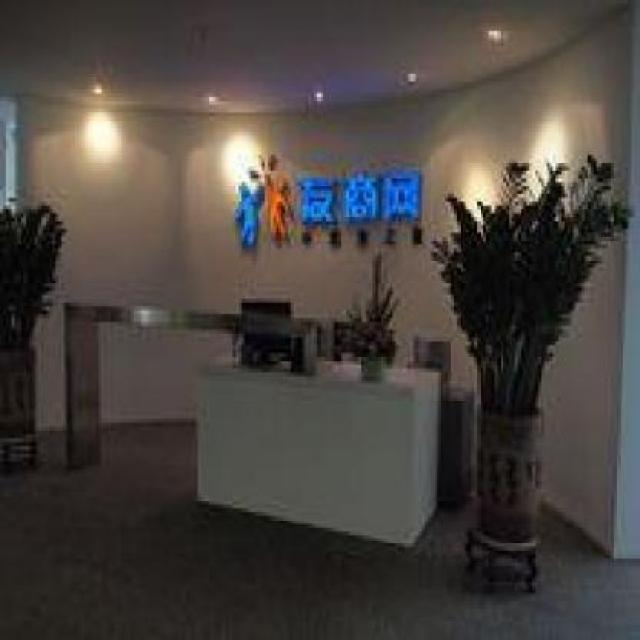frontdesk: (44, 274, 483, 559)
